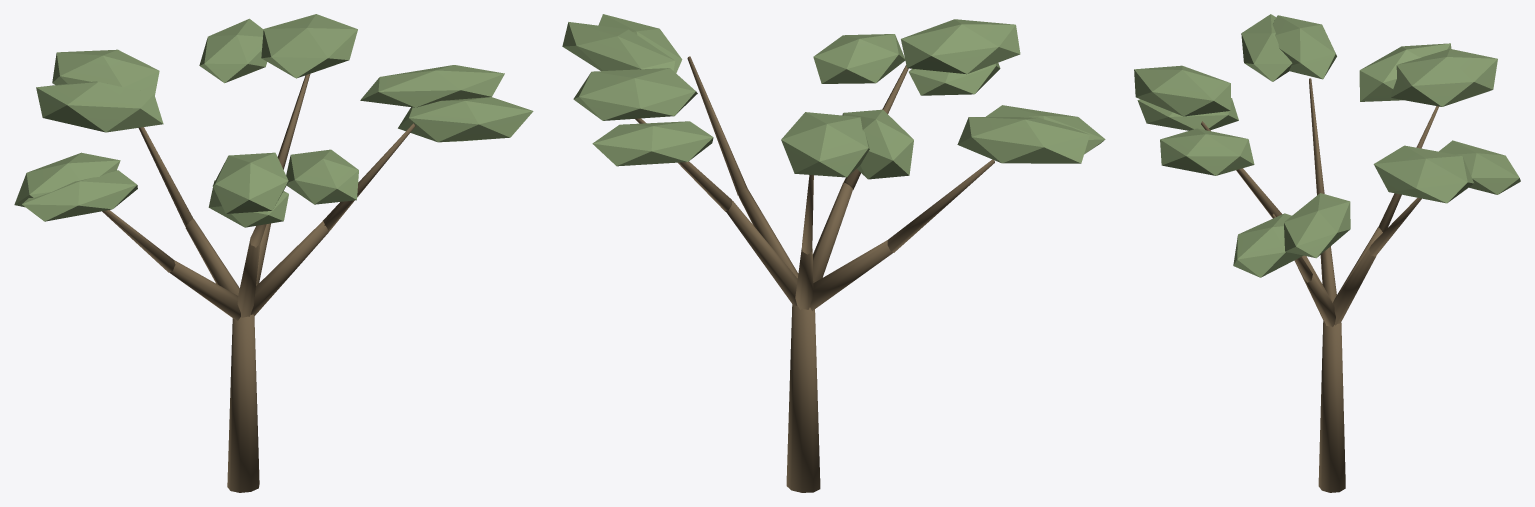
File: acacia_a.glb
The picture shows the model from 3 angles, left to right: view 1: azimuth 30°, elevation 25°; view 2: azimuth 150°, elevation 25°; view 3: azimuth 270°, elevation 25°; orthographic projection. The views are drawn at different scales.
Visible parts, largest first — view 1: acacia_a; view 2: acacia_a; view 3: acacia_a.
Boxes of the visible parts, <box> form: acacia_a: <box>14,14,533,492</box>; acacia_a: <box>562,14,1105,492</box>; acacia_a: <box>1134,14,1520,492</box>.
Bounding box in the file's own units: 14.8 × 11.6 × 10.4.
